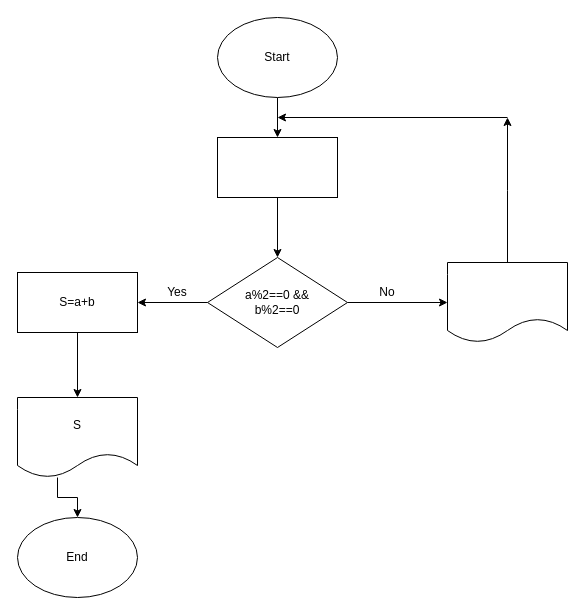
Image size: 585x615. Some labels were removed from this diagram. Each missing label, with the centre of its shape:
"Daxil olunan ədədlər cüt olmalıdır.": pixel 507 302
S, a=15 b=20: pixel 277 167
